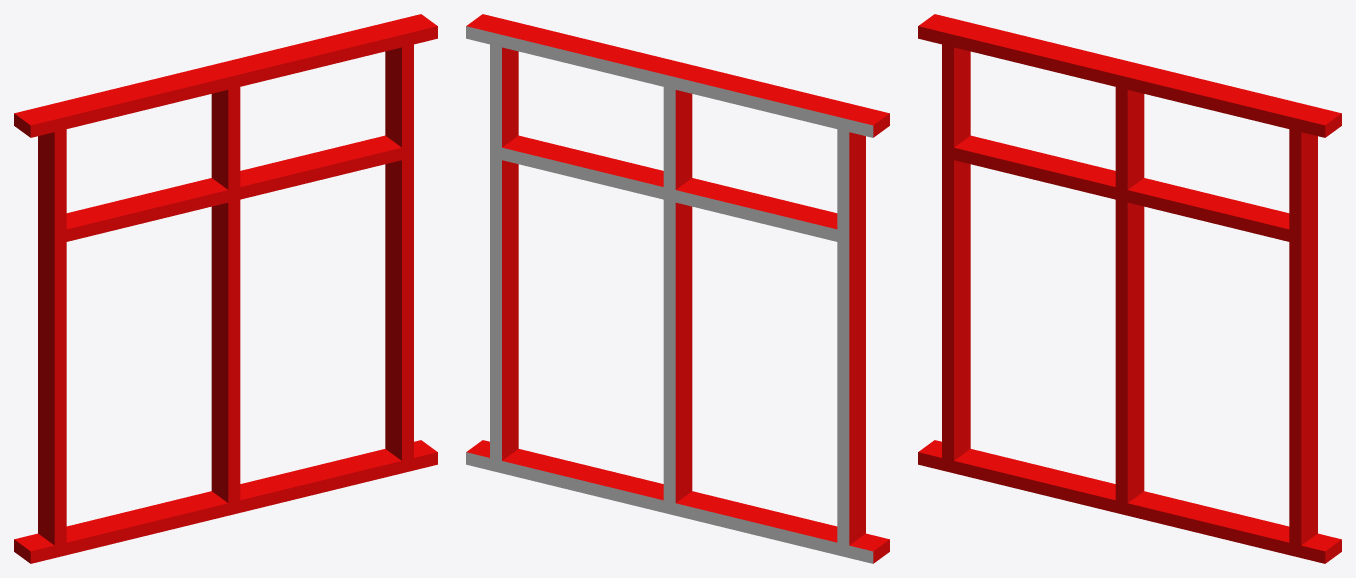
The model's file is Jendela.fbx.
3 views of the same model, side by side, from view 1: azimuth 30°, elevation 25°; view 2: azimuth 150°, elevation 25°; view 3: azimuth 330°, elevation 25° (orthographic).
Visible parts, largest first — view 1: Group1; view 2: Group1; view 3: Group1.
Boxes of the visible parts, bbox=[...] form: Group1: bbox=[14, 14, 437, 563]; Group1: bbox=[466, 14, 889, 563]; Group1: bbox=[918, 14, 1341, 563].
Size of the model in its own units: 1.7 by 1.75 by 0.12.
